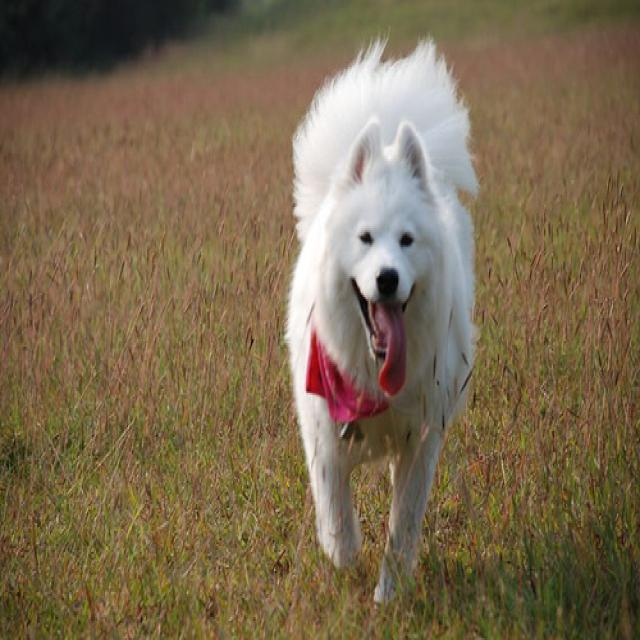dog-samoyed: (276, 42, 481, 615)
